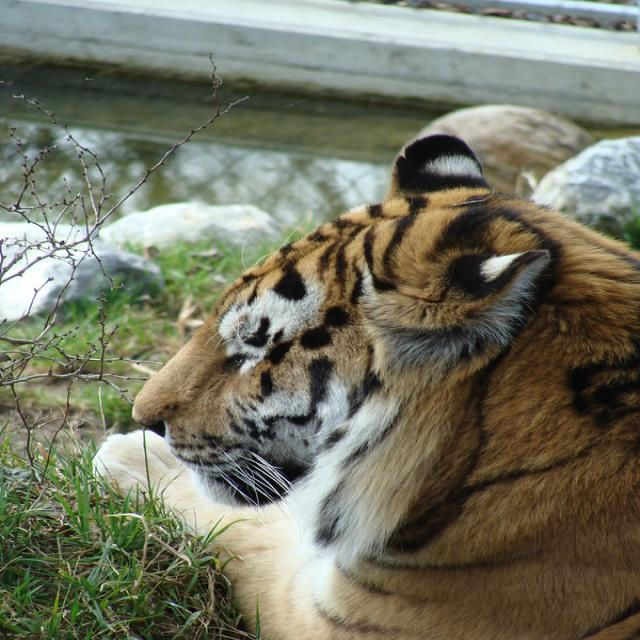Tiger: (78, 125, 636, 634)
